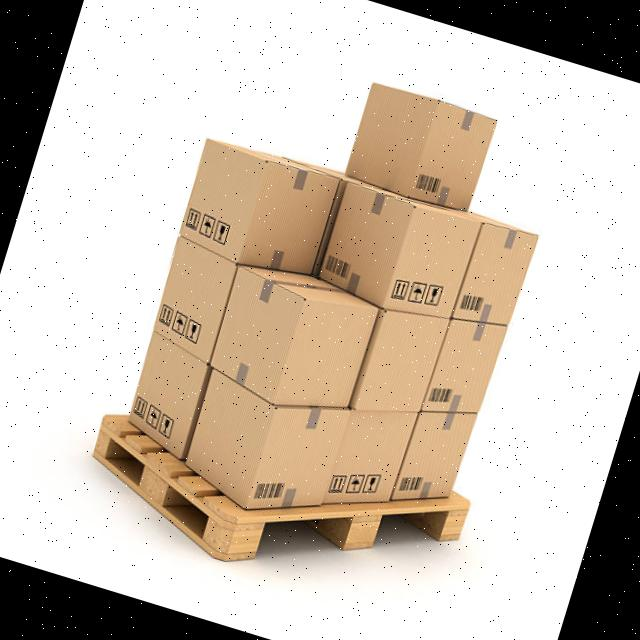Wooden-Pallets: (86, 415, 469, 559)
